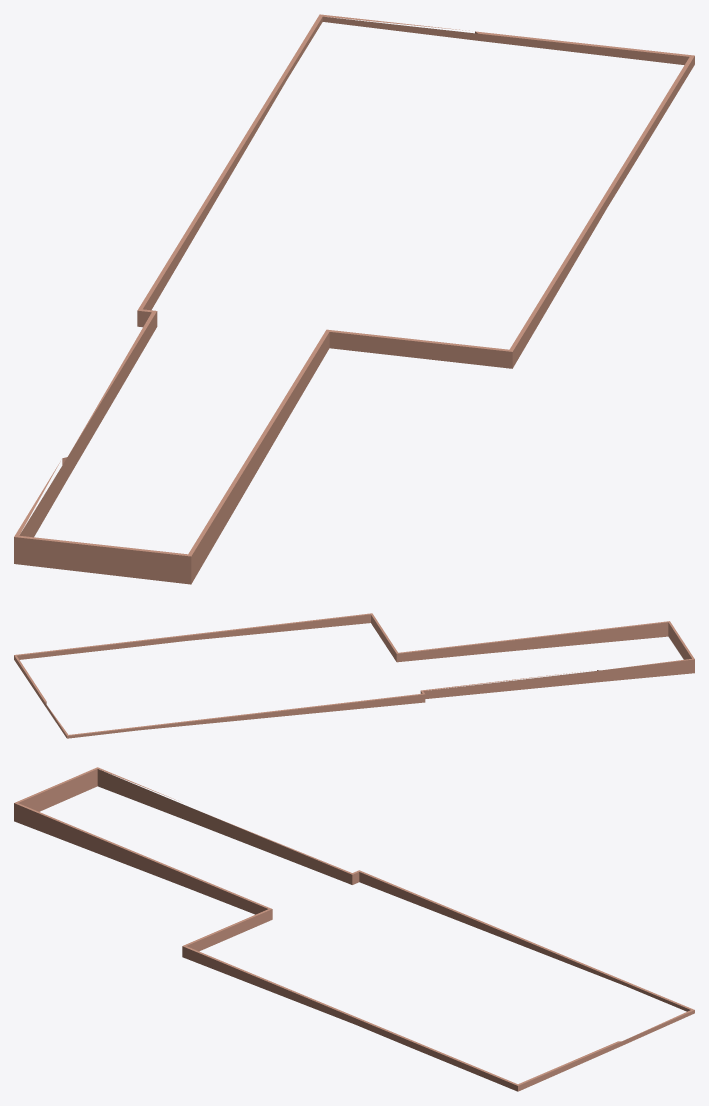
The model's file is queen-228-local-foundation.glb.
3 renders of one model, top to bottom at view 1: azimuth 30°, elevation 25°; view 2: azimuth 150°, elevation 25°; view 3: azimuth 270°, elevation 25°, orthographic. The views are drawn at different scales.
Visible parts, largest first — view 1: Queen228-schematic-foundation; view 2: Queen228-schematic-foundation; view 3: Queen228-schematic-foundation.
Part boxes in pixels (x1,y1,x2,y2): Queen228-schematic-foundation: (14,14,694,584); Queen228-schematic-foundation: (14,613,694,738); Queen228-schematic-foundation: (14,767,694,1091).
Size of the model in its own units: 31.99 by 0.855 by 28.88.
